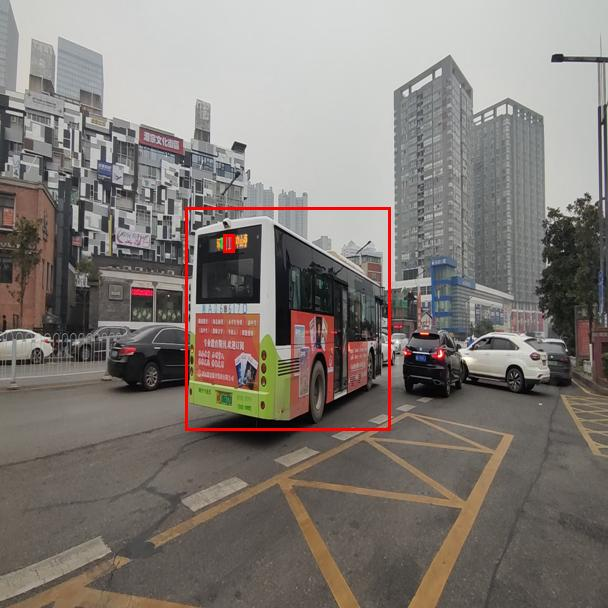bus: (185, 207, 390, 430)
screen: (223, 234, 234, 252)
